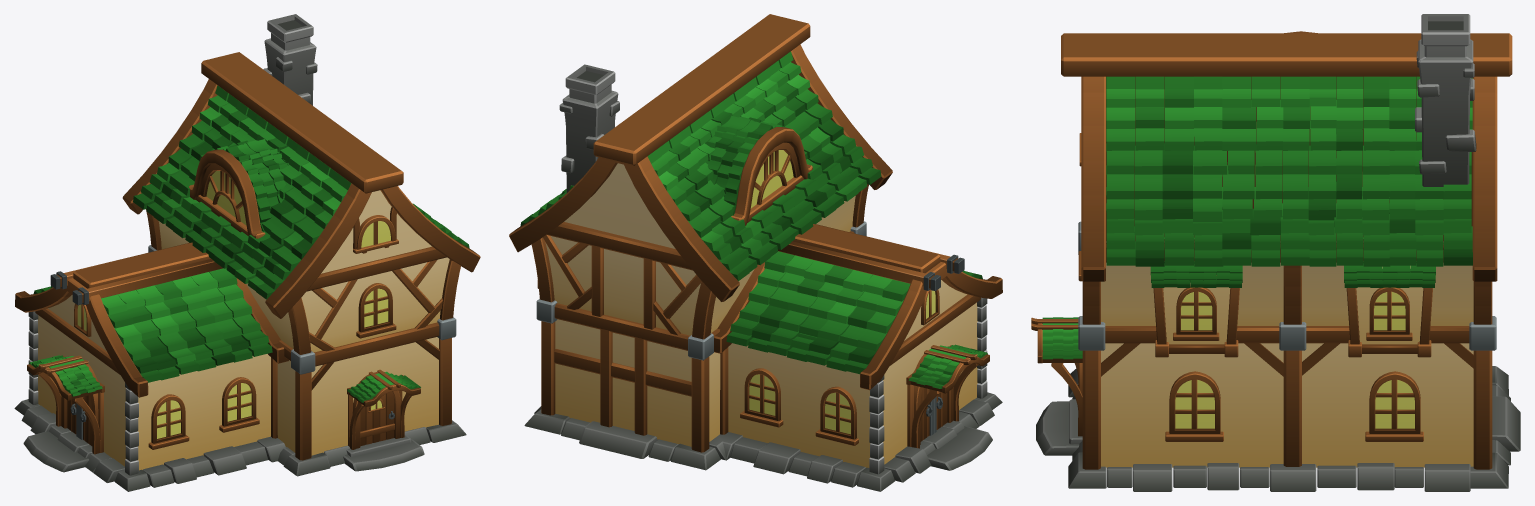
Rendered from Est-Medi-6.fbx.
3 renders of one model, left to right at view 1: azimuth 30°, elevation 25°; view 2: azimuth 150°, elevation 25°; view 3: azimuth 270°, elevation 25°, orthographic. The views are drawn at different scales.
Visible parts, largest first — view 1: Est-Medi-6; view 2: Est-Medi-6; view 3: Est-Medi-6.
Boxes of the visible parts, x1,y1,x2,y2 form: Est-Medi-6: (14,14,480,491); Est-Medi-6: (509,14,1002,491); Est-Medi-6: (1031,14,1520,491).
Size of the model in its own units: 1658 by 1379 by 1382.
